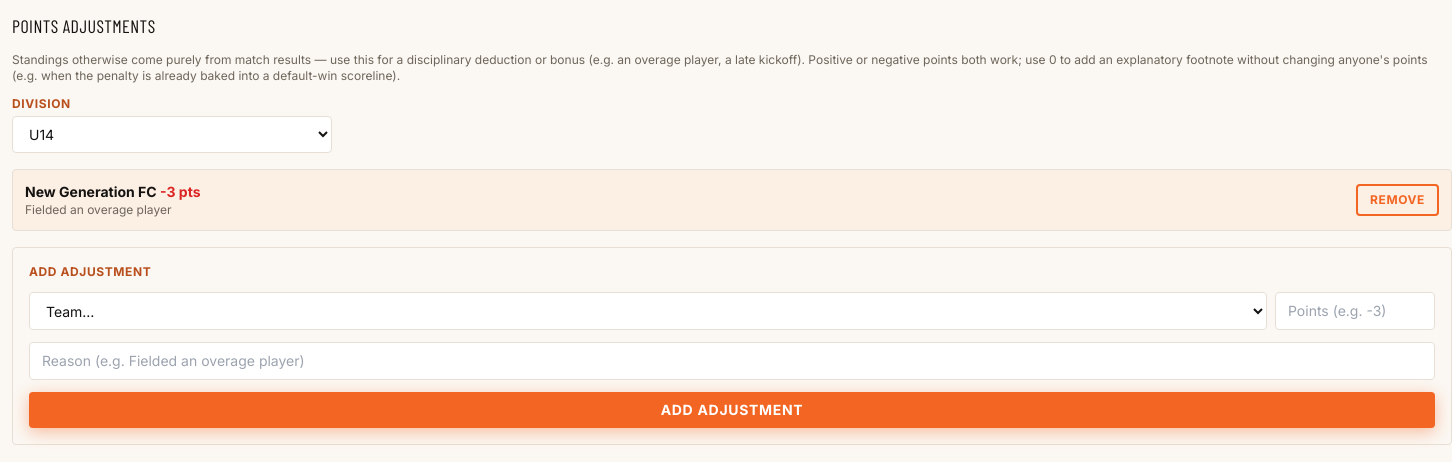
Test: lists existing adjustments with the team name resolved and lets you remove one
The width and height of the screenshot is (1452, 462).
expect the text "Fielded an overage player" shows "New Generation FC": met, box x1=25 y1=183 x2=157 y2=200
expect the text "Fielded an overage player" shows "-3 pts": met, box x1=25 y1=182 x2=201 y2=218
Click the button "Remove" at (1398, 200), box x1=1356 y1=184 x2=1439 y2=216
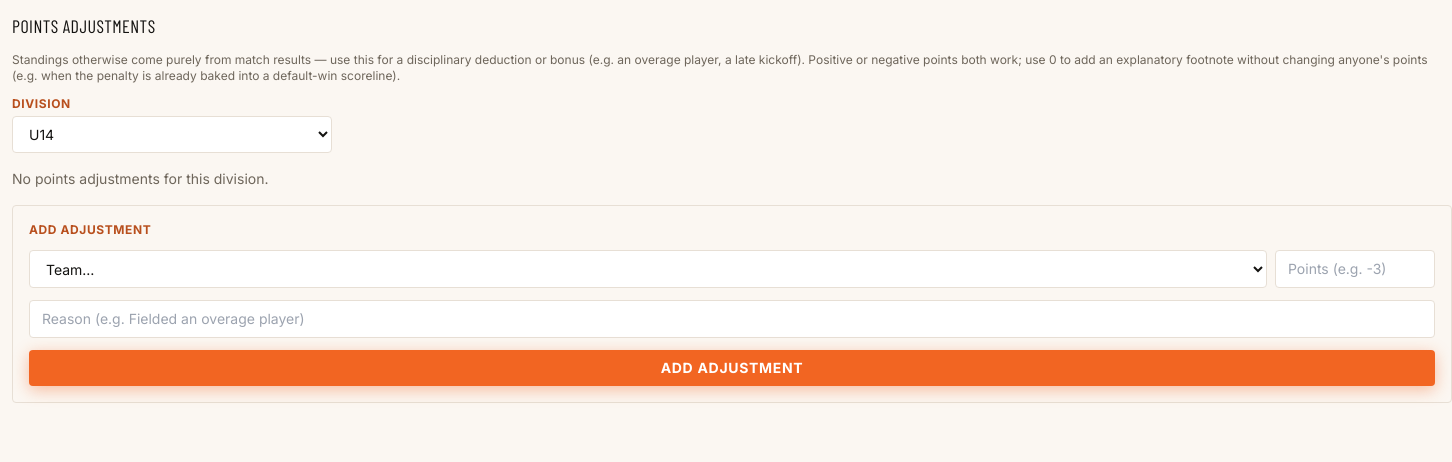
expect the text "No points adjustments for this division." is shown: met, box x1=12 y1=170 x2=268 y2=187
